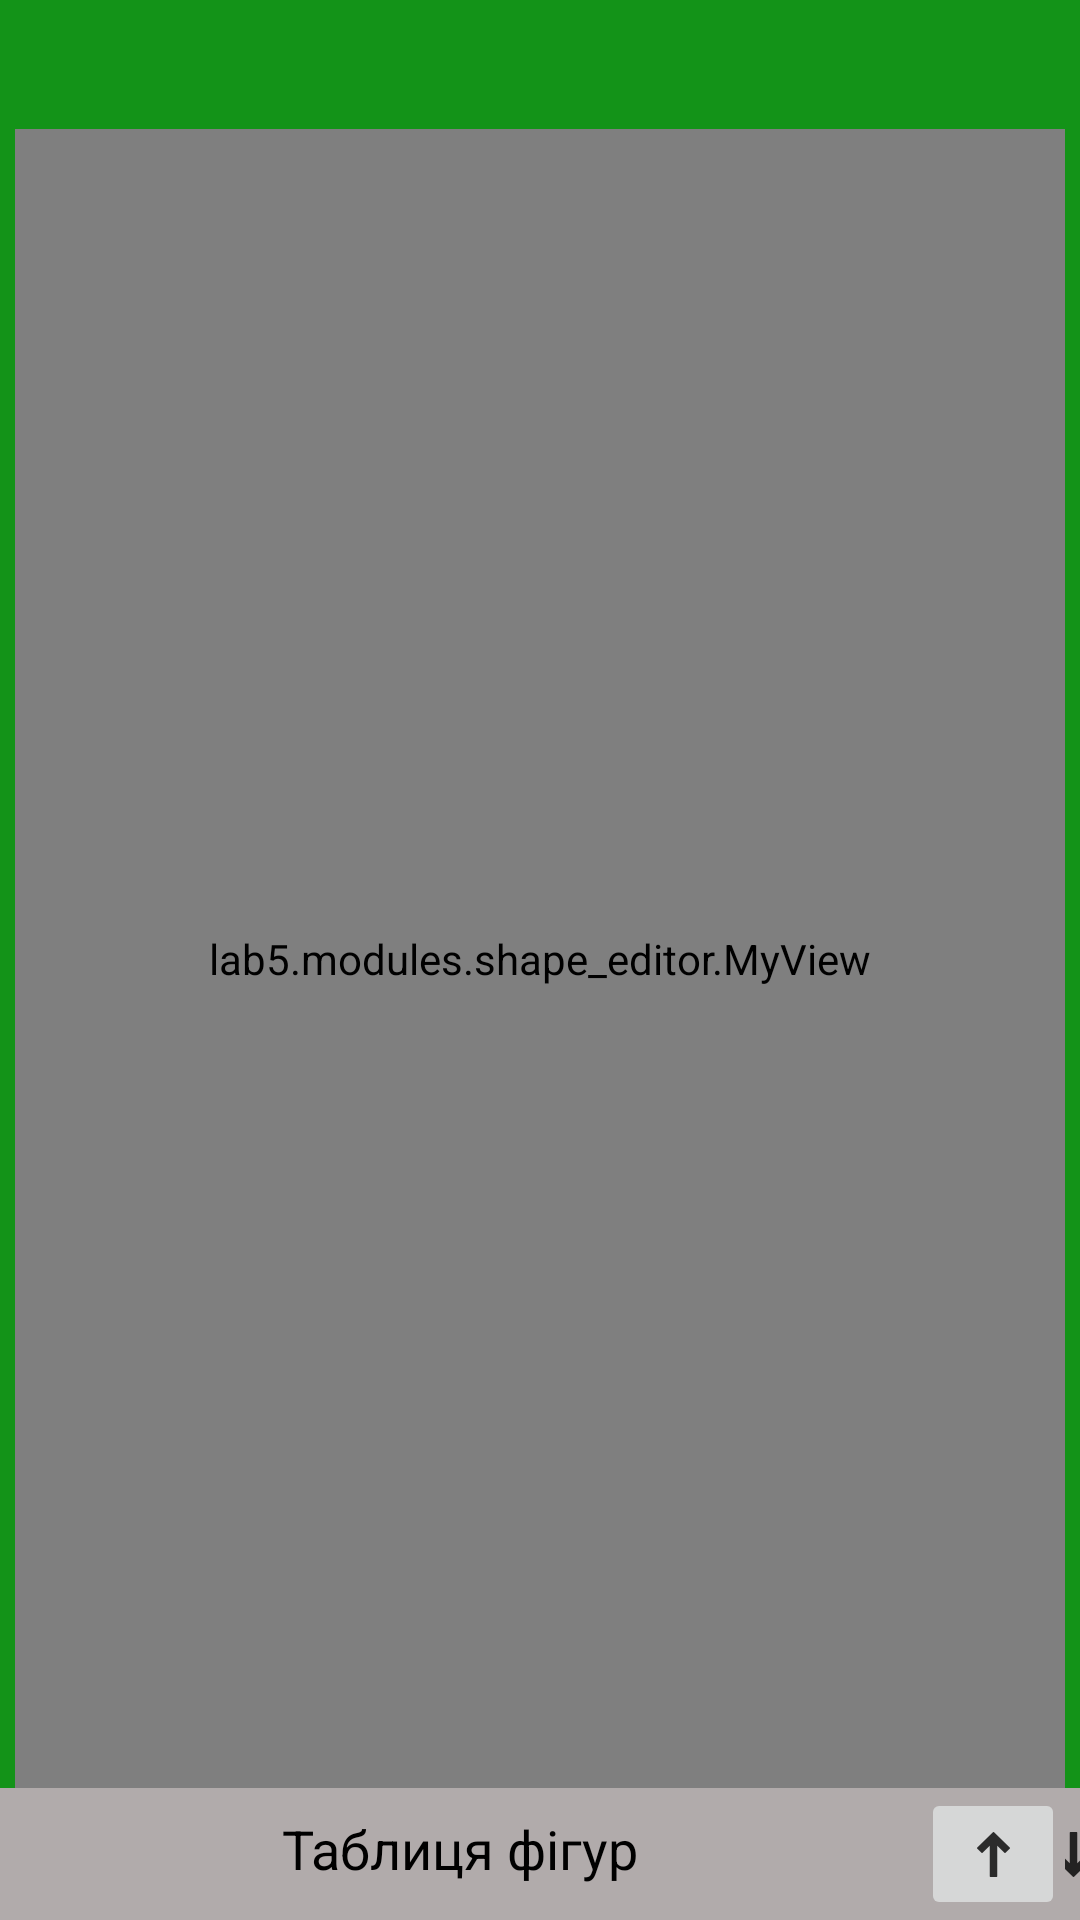

Where to tap for icons on this 1080 x 1920 app screen, as [x,y]:
arrow up: [993,1854]
